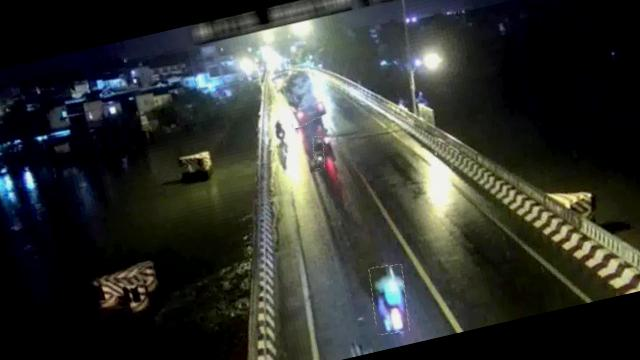Bike: (365, 262, 414, 336), (310, 136, 328, 170), (272, 120, 290, 150)
Truck: (272, 61, 329, 129)
